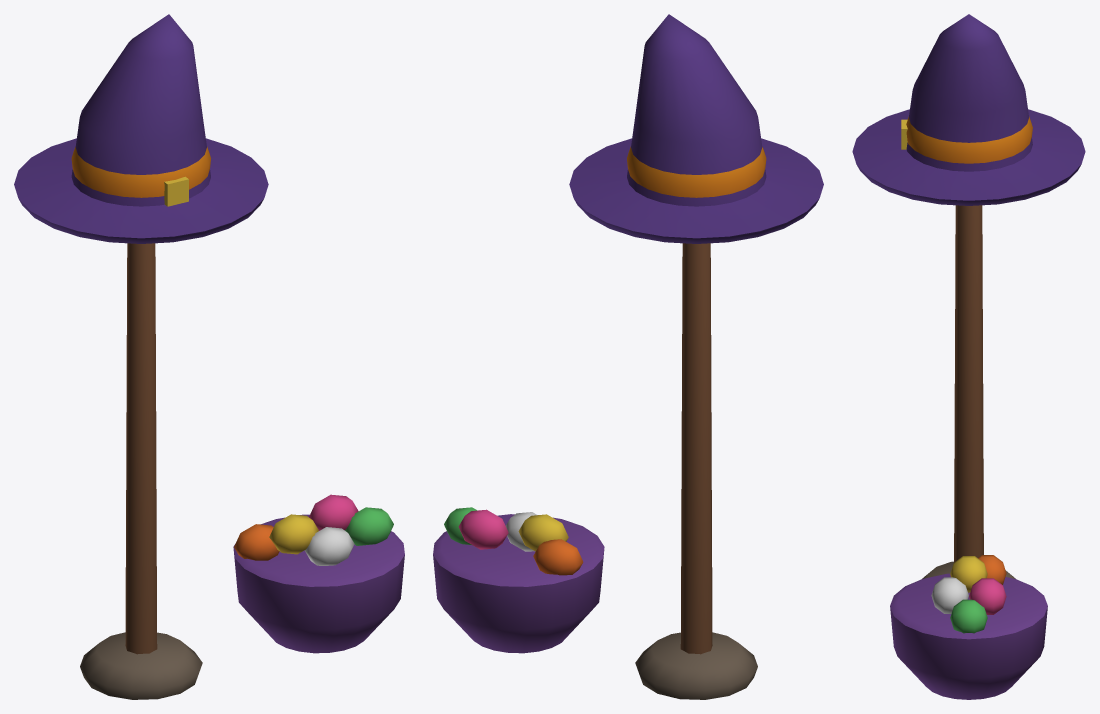
File: fe-witchhat.glb
The picture shows the model from 3 angles, left to right: view 1: azimuth 30°, elevation 25°; view 2: azimuth 150°, elevation 25°; view 3: azimuth 270°, elevation 25°; orthographic projection. The views are drawn at different scales.
Visible parts, largest first — view 1: fe-witchhat; view 2: fe-witchhat; view 3: fe-witchhat.
Part boxes in pixels (x1,y1,x2,y2): fe-witchhat: [14, 14, 404, 699]; fe-witchhat: [433, 14, 823, 699]; fe-witchhat: [852, 14, 1085, 699].
Bounding box in the file's own units: 1.02 × 1.76 × 0.62.
